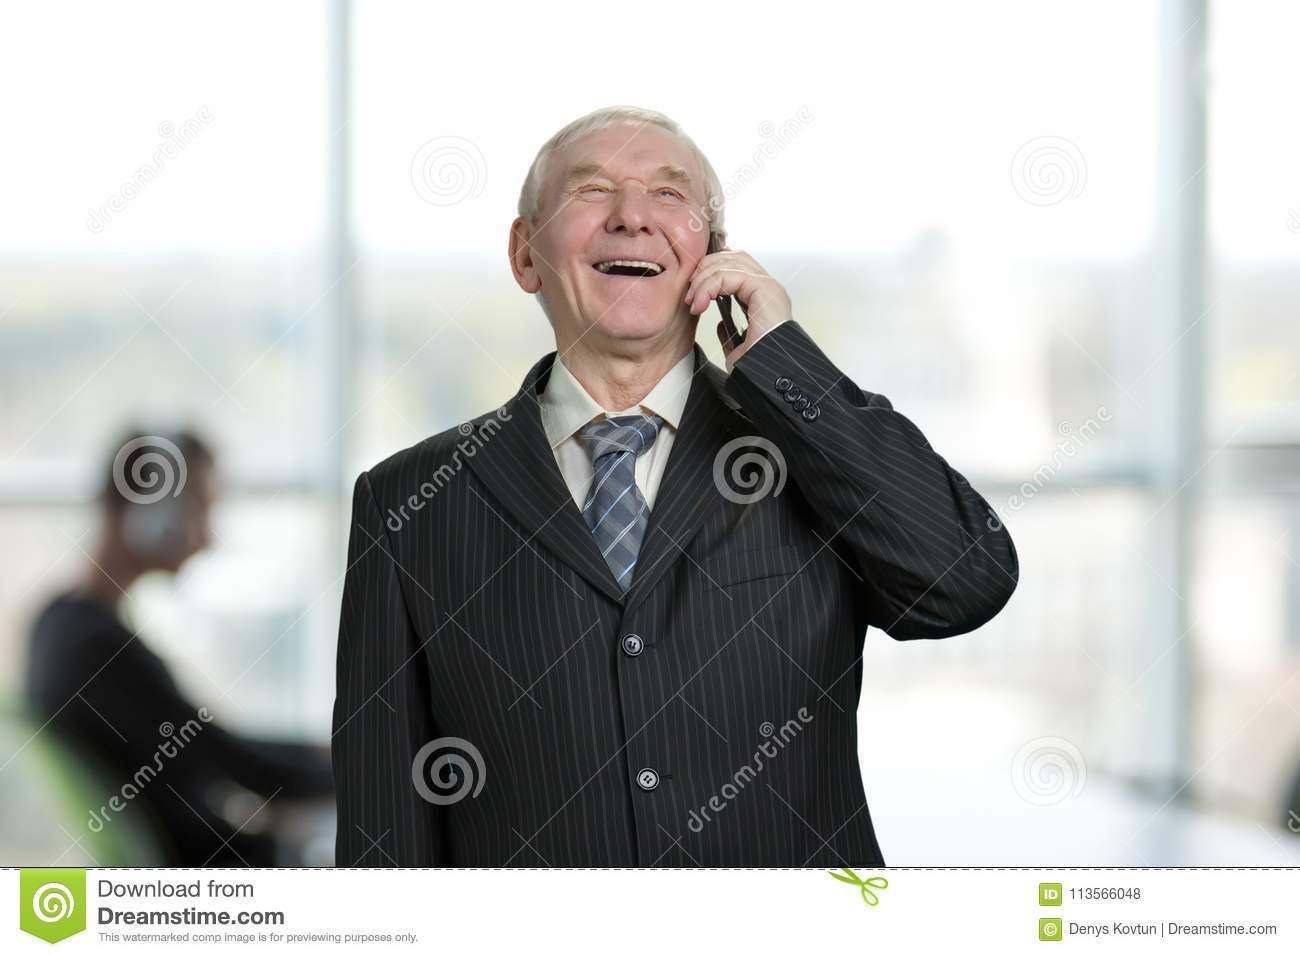phone: (698, 228, 747, 350)
talk: (550, 157, 803, 389)
